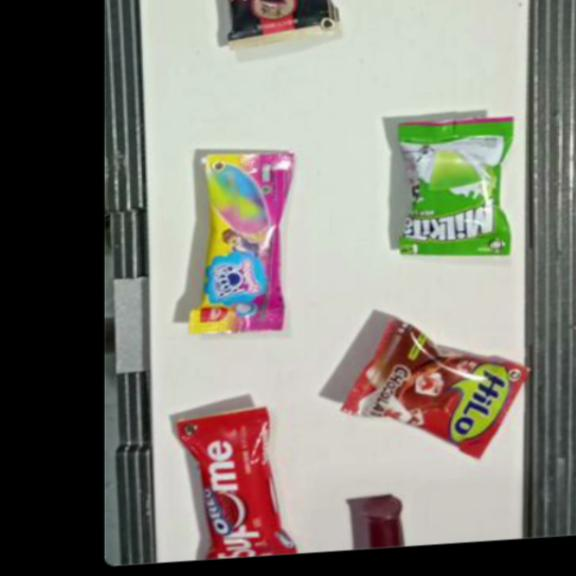Plastik: (337, 308, 530, 469), (189, 149, 295, 338), (176, 404, 298, 564), (398, 113, 508, 262), (223, 0, 341, 51), (358, 495, 405, 552)
